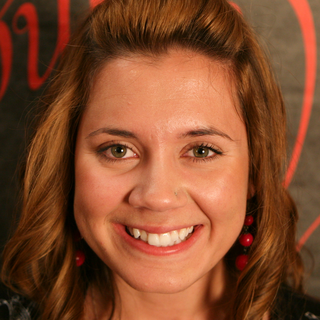eye: (95, 140, 142, 164), (180, 139, 225, 164)
